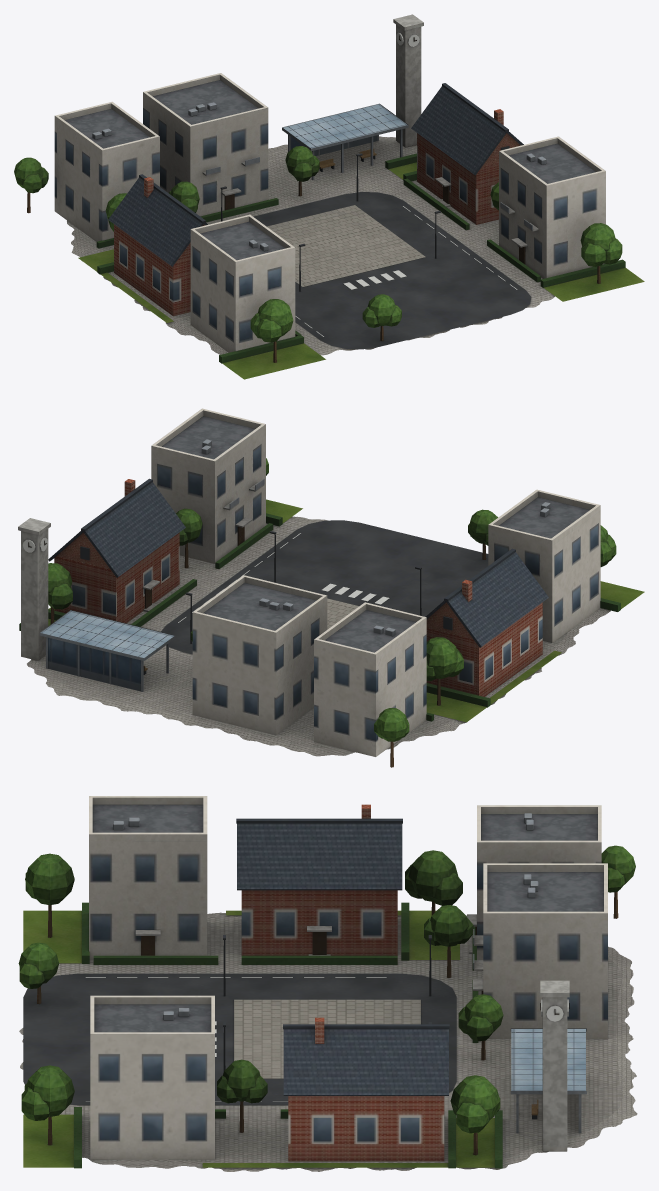
File: modern-town-small-b.glb
3 renders of one model, top to bottom at view 1: azimuth 30°, elevation 25°; view 2: azimuth 150°, elevation 25°; view 3: azimuth 270°, elevation 25°, orthographic. The views are drawn at different scales.
Visible parts, largest first — view 1: LOD0; view 2: LOD0; view 3: LOD0.
Part boxes in pixels (bbox=[...]): LOD0: bbox=[14, 14, 644, 379]; LOD0: bbox=[18, 408, 644, 767]; LOD0: bbox=[18, 796, 637, 1171].
Size of what is drawn, in the model's own units: 4.02 by 1.16 by 4.05.
2 materials, 2 textured.
